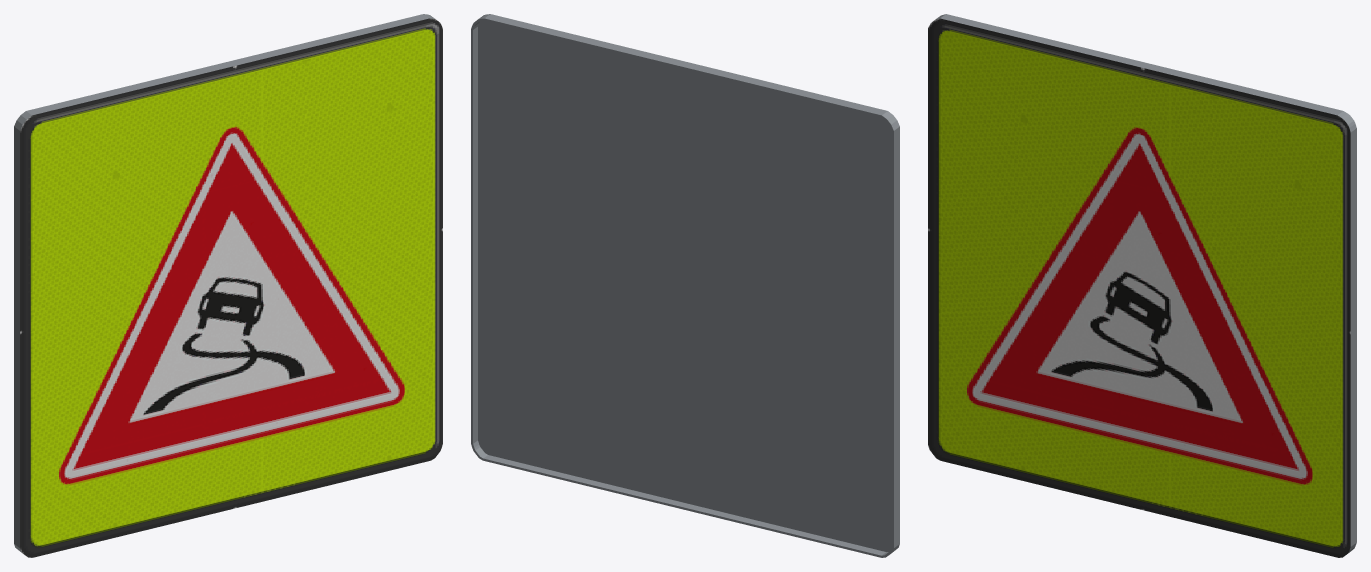
The picture shows the model from 3 angles, left to right: view 1: azimuth 30°, elevation 25°; view 2: azimuth 150°, elevation 25°; view 3: azimuth 330°, elevation 25°; orthographic projection.
Visible parts, largest first — view 1: cat_156ed94328ee7a40; view 2: cat_156ed94328ee7a40; view 3: cat_156ed94328ee7a40.
Part boxes in pixels (left/top/right/bottom): cat_156ed94328ee7a40: left=14, top=14, right=442, bottom=557; cat_156ed94328ee7a40: left=471, top=14, right=899, bottom=557; cat_156ed94328ee7a40: left=928, top=14, right=1356, bottom=557.
Size of the model in its own units: 0.6 by 0.015 by 0.6.
2 materials, 1 textured.
